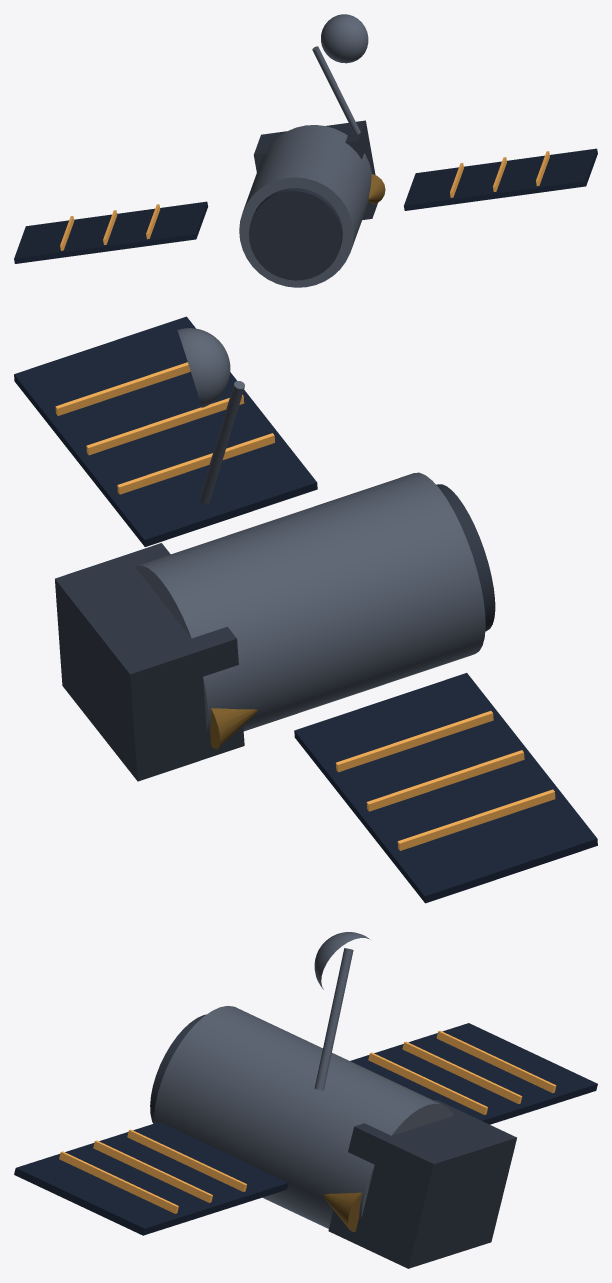
File: hubble.glb
3 views of the same model, one above another, from view 1: azimuth 30°, elevation 25°; view 2: azimuth 150°, elevation 25°; view 3: azimuth 270°, elevation 25° (orthographic). The views are drawn at different scales.
Visible parts, largest first — view 1: Bus_TelescopeTube, Payload_Aperture, SolarPanels_Right, SolarPanels_Left, Antenna_Dish, Bus_AftModule, SolarPanels, Antenna_Mast, Thrusters_Nozzle_0.38; view 2: Bus_TelescopeTube, SolarPanels_Left, SolarPanels_Right, Bus_AftModule, SolarPanels, Antenna_Dish, Payload_Aperture, Antenna_Mast, Thrusters_Nozzle_-0.38; view 3: Bus_TelescopeTube, Bus_AftModule, SolarPanels_Right, SolarPanels_Left, SolarPanels, Antenna_Mast, Thrusters_Nozzle_0.38, Antenna_Dish, Payload_Aperture.
Boxes of the visible parts, left/top/right/bottom form: Bus_TelescopeTube: left=239, top=125, right=371, bottom=287; Payload_Aperture: left=249, top=188, right=342, bottom=280; SolarPanels_Right: left=404, top=148, right=597, bottom=210; SolarPanels_Left: left=14, top=201, right=208, bottom=263; Antenna_Dish: left=321, top=14, right=368, bottom=63; Bus_AftModule: left=253, top=120, right=377, bottom=219; SolarPanels: left=60, top=151, right=549, bottom=250; Antenna_Mast: left=312, top=46, right=360, bottom=135; Thrusters_Nozzle_0.38: left=368, top=174, right=385, bottom=204; Bus_TelescopeTube: left=135, top=472, right=485, bottom=731; SolarPanels_Left: left=294, top=673, right=597, bottom=903; SolarPanels_Right: left=14, top=316, right=317, bottom=546; Bus_AftModule: left=55, top=543, right=244, bottom=781; SolarPanels: left=55, top=362, right=555, bottom=850; Antenna_Dish: left=177, top=328, right=230, bottom=407; Payload_Aperture: left=436, top=484, right=495, bottom=631; Antenna_Mast: left=199, top=381, right=244, bottom=504; Thrusters_Nozzle_-0.38: left=210, top=708, right=258, bottom=749; Bus_TelescopeTube: left=154, top=1006, right=453, bottom=1228; Bus_AftModule: left=328, top=1100, right=516, bottom=1268; SolarPanels_Right: left=14, top=1122, right=288, bottom=1235; SolarPanels_Left: left=350, top=1023, right=597, bottom=1124; SolarPanels: left=59, top=1030, right=556, bottom=1213; Antenna_Mast: left=314, top=948, right=353, bottom=1090; Thrusters_Nozzle_0.38: left=323, top=1192, right=362, bottom=1231; Antenna_Dish: left=314, top=932, right=369, bottom=989; Payload_Aperture: left=150, top=1014, right=206, bottom=1123.
Bounding box in the file's own units: 3.94 × 1.85 × 3.04.
